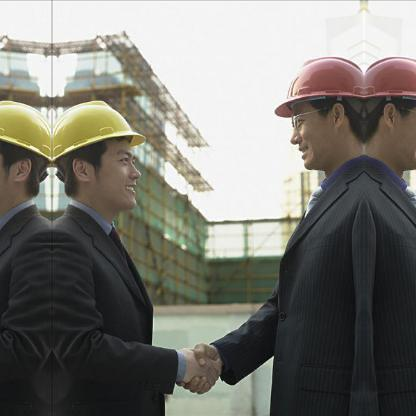helmet: (50, 97, 148, 177), (266, 51, 367, 127)
